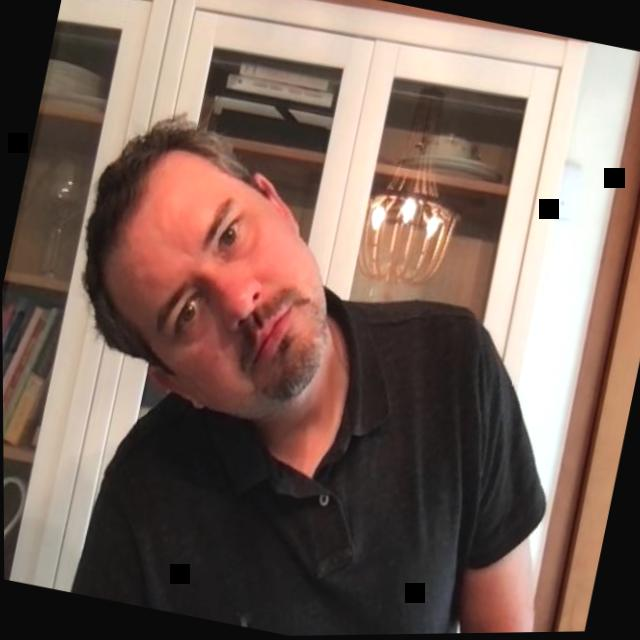NO-Mask: (48, 100, 368, 436)
